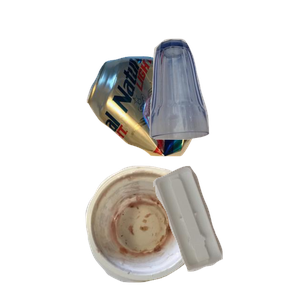glass: (147, 36, 300, 168)
metal: (84, 53, 279, 202)
plastic: (150, 163, 300, 300)
trash: (83, 163, 276, 300)
